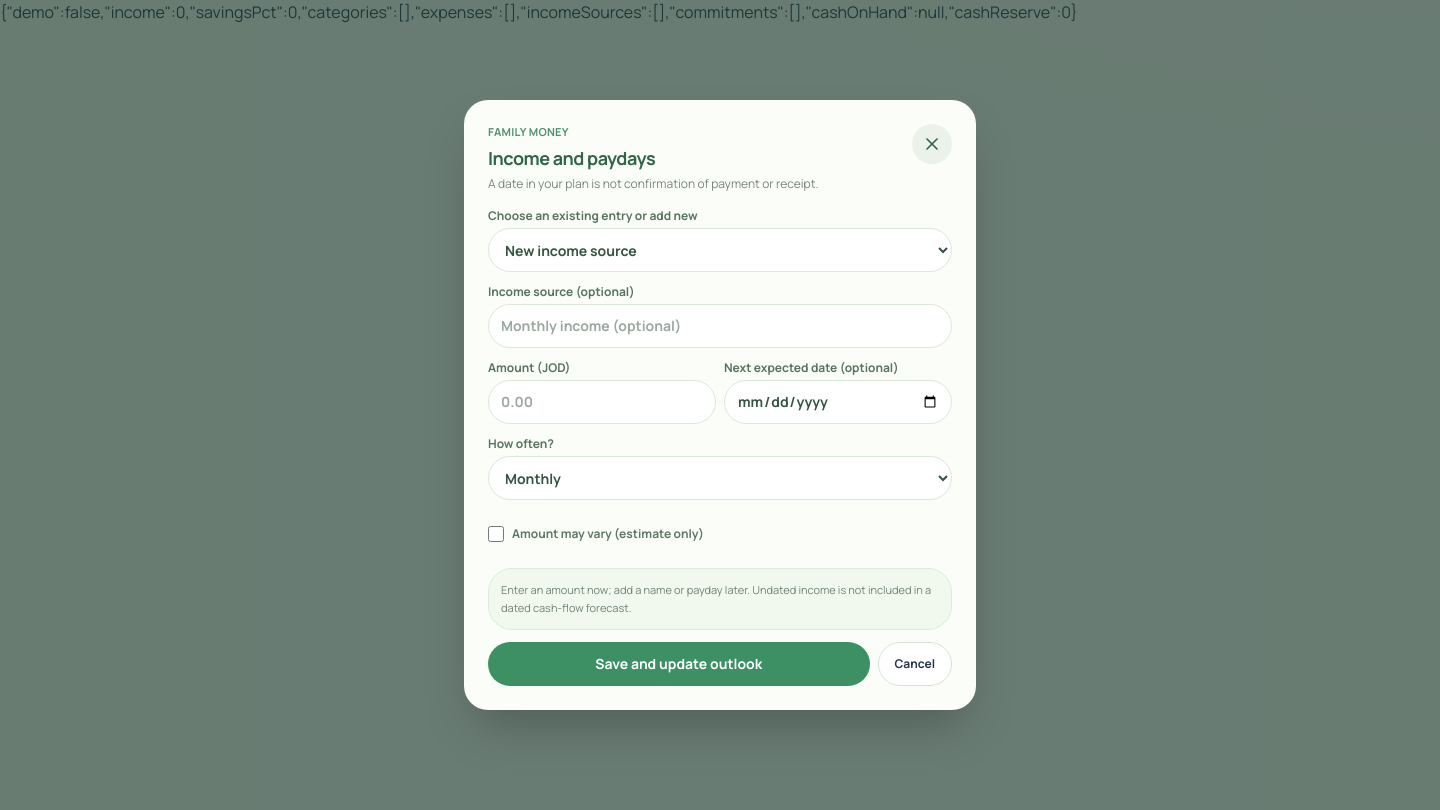
Scenario: Income and payday progressive entry › rejects an invalid income amount with a clear message
In the field labelled "Amount (JOD)": (602,402) [488,380,716,424], type "abc"
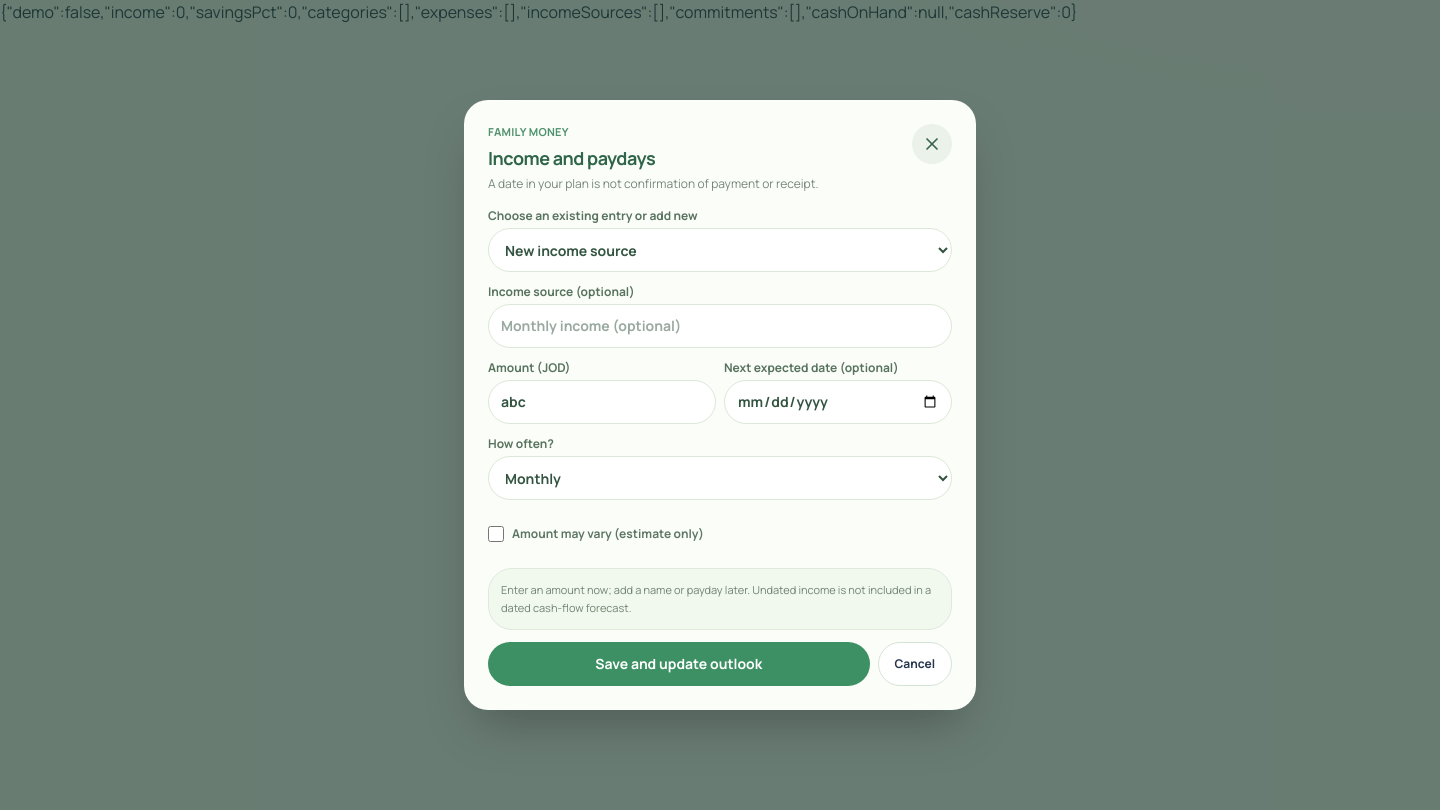
Click the button "Save and update outlook": (679,664) [488,642,870,686]
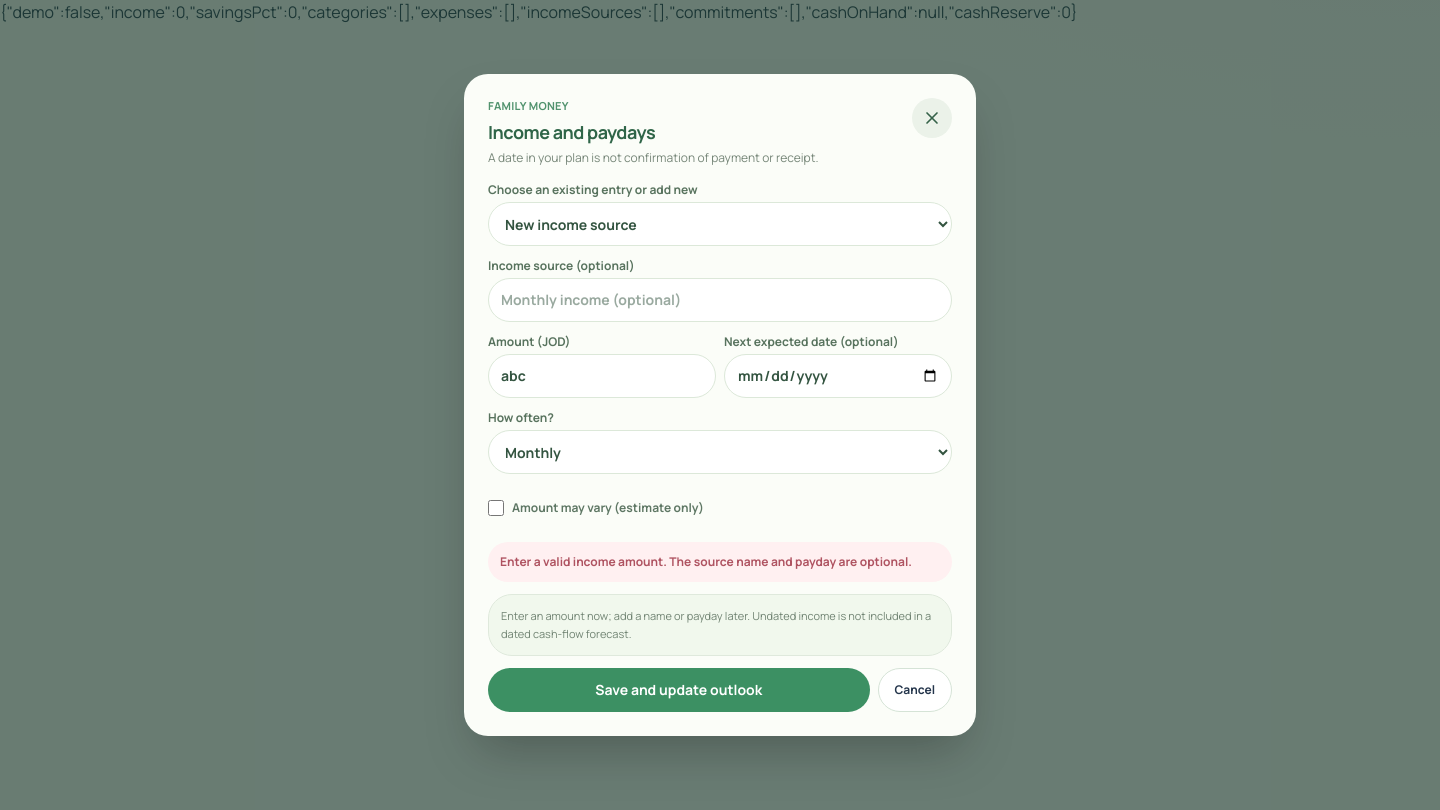
expect the message shows "Enter a valid income amount": met, box [500,553,912,570]
